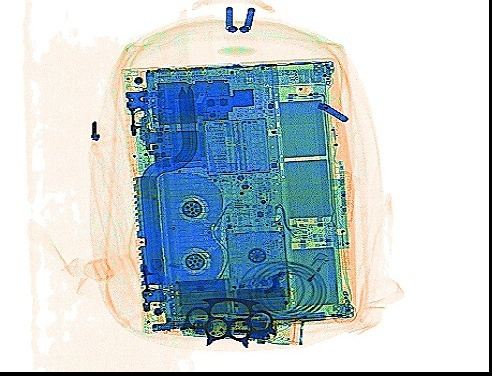lighter: (289, 250, 330, 292)
powerbank: (172, 271, 289, 321)
